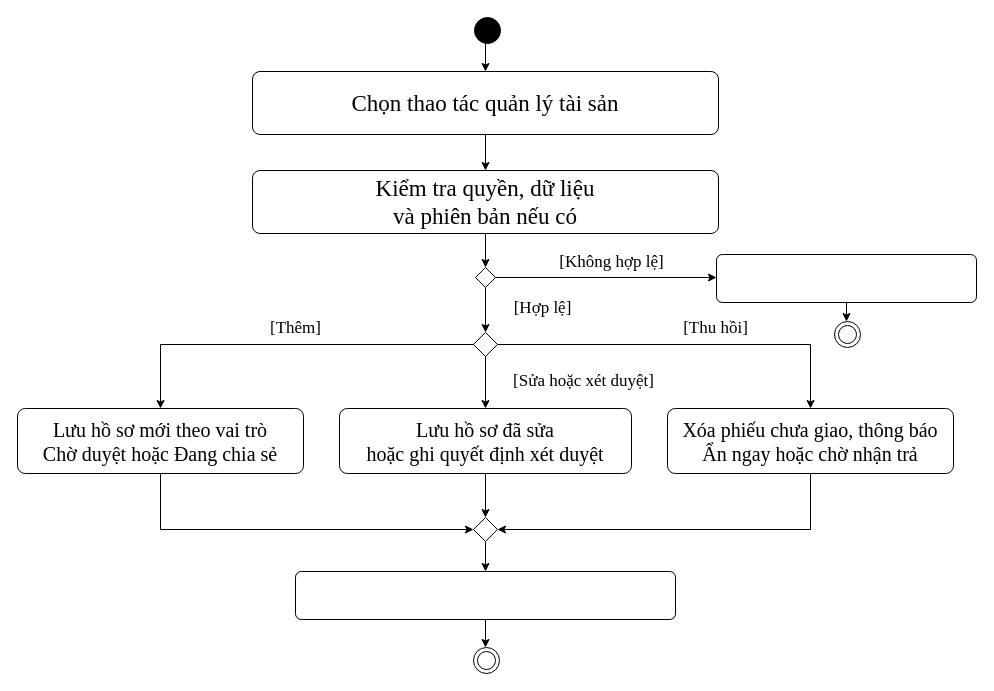
This 994x691 diagram has some shape labels left out. Each missing label, with the box of its shape:
Báo lỗi và giữ nguyên dữ liệu: (716, 254, 976, 302)
Hiển thị kết quả thao tác: (294, 570, 676, 620)
